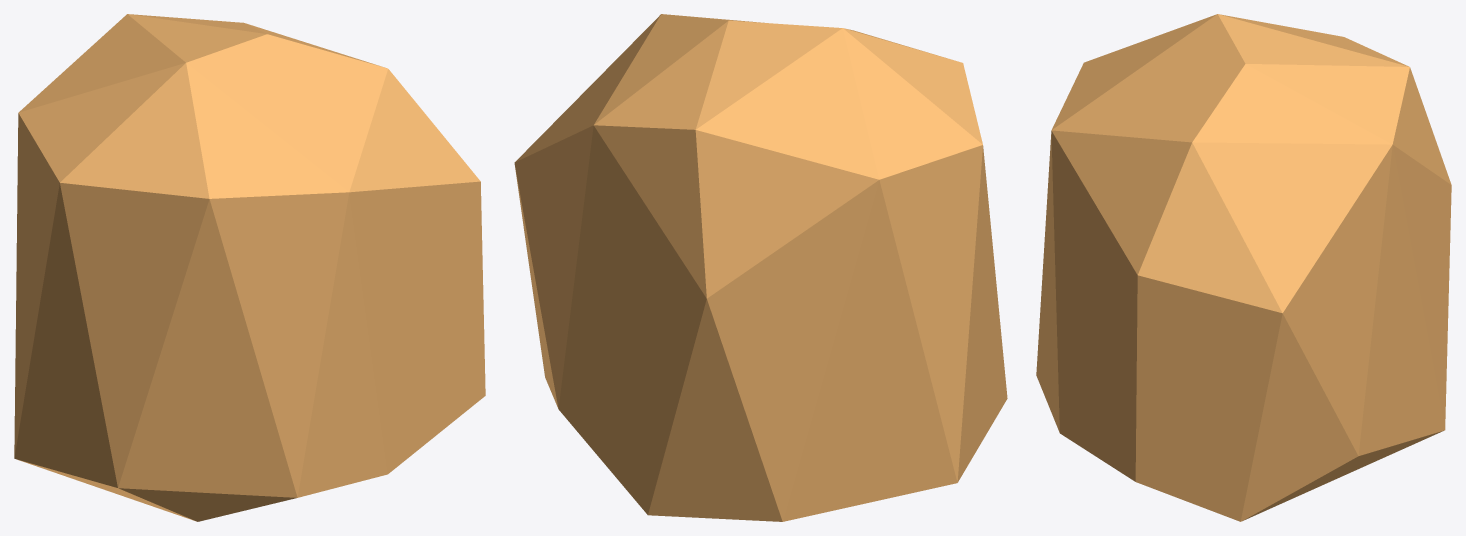
Rendered from Rock3.fbx.
3 views of the same model, side by side, from view 1: azimuth 30°, elevation 25°; view 2: azimuth 150°, elevation 25°; view 3: azimuth 270°, elevation 25° (orthographic). The views are drawn at different scales.
Visible parts, largest first — view 1: Rock3; view 2: Rock3; view 3: Rock3.
Part boxes in pixels (x1,y1,x2,y2): Rock3: (14, 14, 485, 521); Rock3: (514, 14, 1007, 521); Rock3: (1036, 14, 1451, 521).
Bounding box in the file's own units: 46.41 × 42.51 × 41.07.
